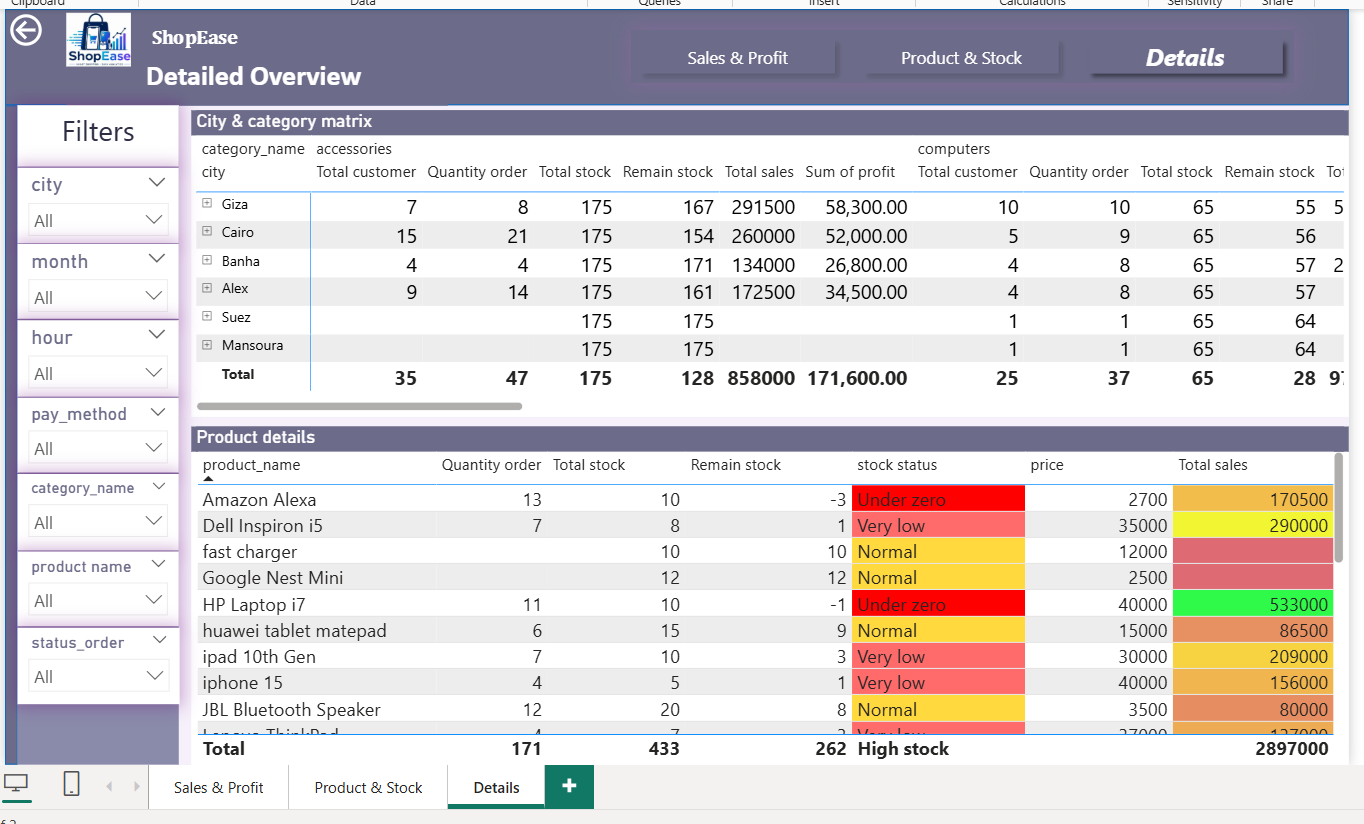

What the dashboard file says about the page in this screenshot:
{"tool":"powerbi","page":{"name":"Details","canvas":[1280,720],"ordinal":2},"visuals":[{"type":"shape","box":[0,0,1279.8,91.7],"z":0},{"type":"shape","box":[0,91.6,12.1,628],"z":1000},{"type":"shape","box":[12.1,91.6,153.6,628],"z":2000},{"type":"textbox","box":[58.3,41.7,363.1,50],"z":3000},{"type":"textbox","box":[134.5,10.7,192.9,38.1],"z":4000},{"type":"image","box":[58.3,3.6,61.9,51.2],"z":5000},{"type":"textbox","box":[11.9,91.7,153.6,58.3],"z":6000},{"type":"pivotTable","title":"City & category matrix ","fields":{"Values":["CountNonNull(fact_sales.customer_id)","Sum(fact_sales.quantity_order)","dim_product.Total stock","dim_product.re stock","Sum(fact_sales.total_amount)","Sum(fact_sales.profit)"],"Rows":["dim_customer.city Hierarchy.city","dim_customer.city Hierarchy.street"],"Columns":["dim_product.category_name Hierarchy.category_name","dim_product.category_name Hierarchy.product_name"]},"box":[177.4,96.4,1102.4,291.7],"z":7000},{"type":"slicer","fields":{"Values":["dim_customer.city"]},"box":[12,151.3,153.7,72],"z":8000},{"type":"slicer","fields":{"Values":["dim_date.month"]},"box":[11.9,223.8,153.6,71.4],"z":9000},{"type":"slicer","fields":{"Values":["dim_date.hour"]},"box":[11.9,296.4,153.6,72.6],"z":10000},{"type":"slicer","fields":{"Values":["dim_payment.pay_method"]},"box":[11.9,370.2,153.6,71.4],"z":11000},{"type":"slicer","fields":{"Values":["dim_product.category_name"]},"box":[11.9,442.9,153.6,72.6],"z":12000},{"type":"slicer","fields":{"Values":["dim_product.product_name"]},"box":[11.9,516.7,153.6,71.4],"z":13000},{"type":"tableEx","title":"Product details","fields":{"Values":["dim_product.product_name","Sum(fact_sales.quantity_order)","dim_product.Total stock","dim_product.Remain stock","dim_product.stock status","dim_product.price","Sum(fact_sales.total_amount)"]},"box":[177.4,397.6,1102.4,322.6],"z":14000},{"type":"actionButton","box":[0,0,100,40],"z":15000},{"type":"slicer","fields":{"Values":["fact_sales.status_order"]},"box":[11.9,589.3,154.8,72.6],"z":16000},{"type":"pageNavigator","box":[596.4,20.2,631,50],"z":17000}]}

Visuals, with their boxes on the page's 1280x720 design canvas (x1, y1, x2, y2). These are canvas units, not pixel positions in the 1364x824 screenshot, which may show the page scaled, cropped or inside an application window:
shape: {"x1": 0, "y1": 0, "x2": 1280, "y2": 92}
shape: {"x1": 0, "y1": 92, "x2": 12, "y2": 720}
shape: {"x1": 12, "y1": 92, "x2": 166, "y2": 720}
textbox: {"x1": 58, "y1": 42, "x2": 421, "y2": 92}
textbox: {"x1": 134, "y1": 11, "x2": 327, "y2": 49}
image: {"x1": 58, "y1": 4, "x2": 120, "y2": 55}
textbox: {"x1": 12, "y1": 92, "x2": 166, "y2": 150}
"City & category matrix " pivotTable: {"x1": 177, "y1": 96, "x2": 1280, "y2": 388}
slicer - dim_customer.city: {"x1": 12, "y1": 151, "x2": 166, "y2": 223}
slicer - dim_date.month: {"x1": 12, "y1": 224, "x2": 166, "y2": 295}
slicer - dim_date.hour: {"x1": 12, "y1": 296, "x2": 166, "y2": 369}
slicer - dim_payment.pay_method: {"x1": 12, "y1": 370, "x2": 166, "y2": 442}
slicer - dim_product.category_name: {"x1": 12, "y1": 443, "x2": 166, "y2": 516}
slicer - dim_product.product_name: {"x1": 12, "y1": 517, "x2": 166, "y2": 588}
"Product details" tableEx: {"x1": 177, "y1": 398, "x2": 1280, "y2": 720}
actionButton: {"x1": 0, "y1": 0, "x2": 100, "y2": 40}
slicer - fact_sales.status_order: {"x1": 12, "y1": 589, "x2": 167, "y2": 662}
pageNavigator: {"x1": 596, "y1": 20, "x2": 1227, "y2": 70}
